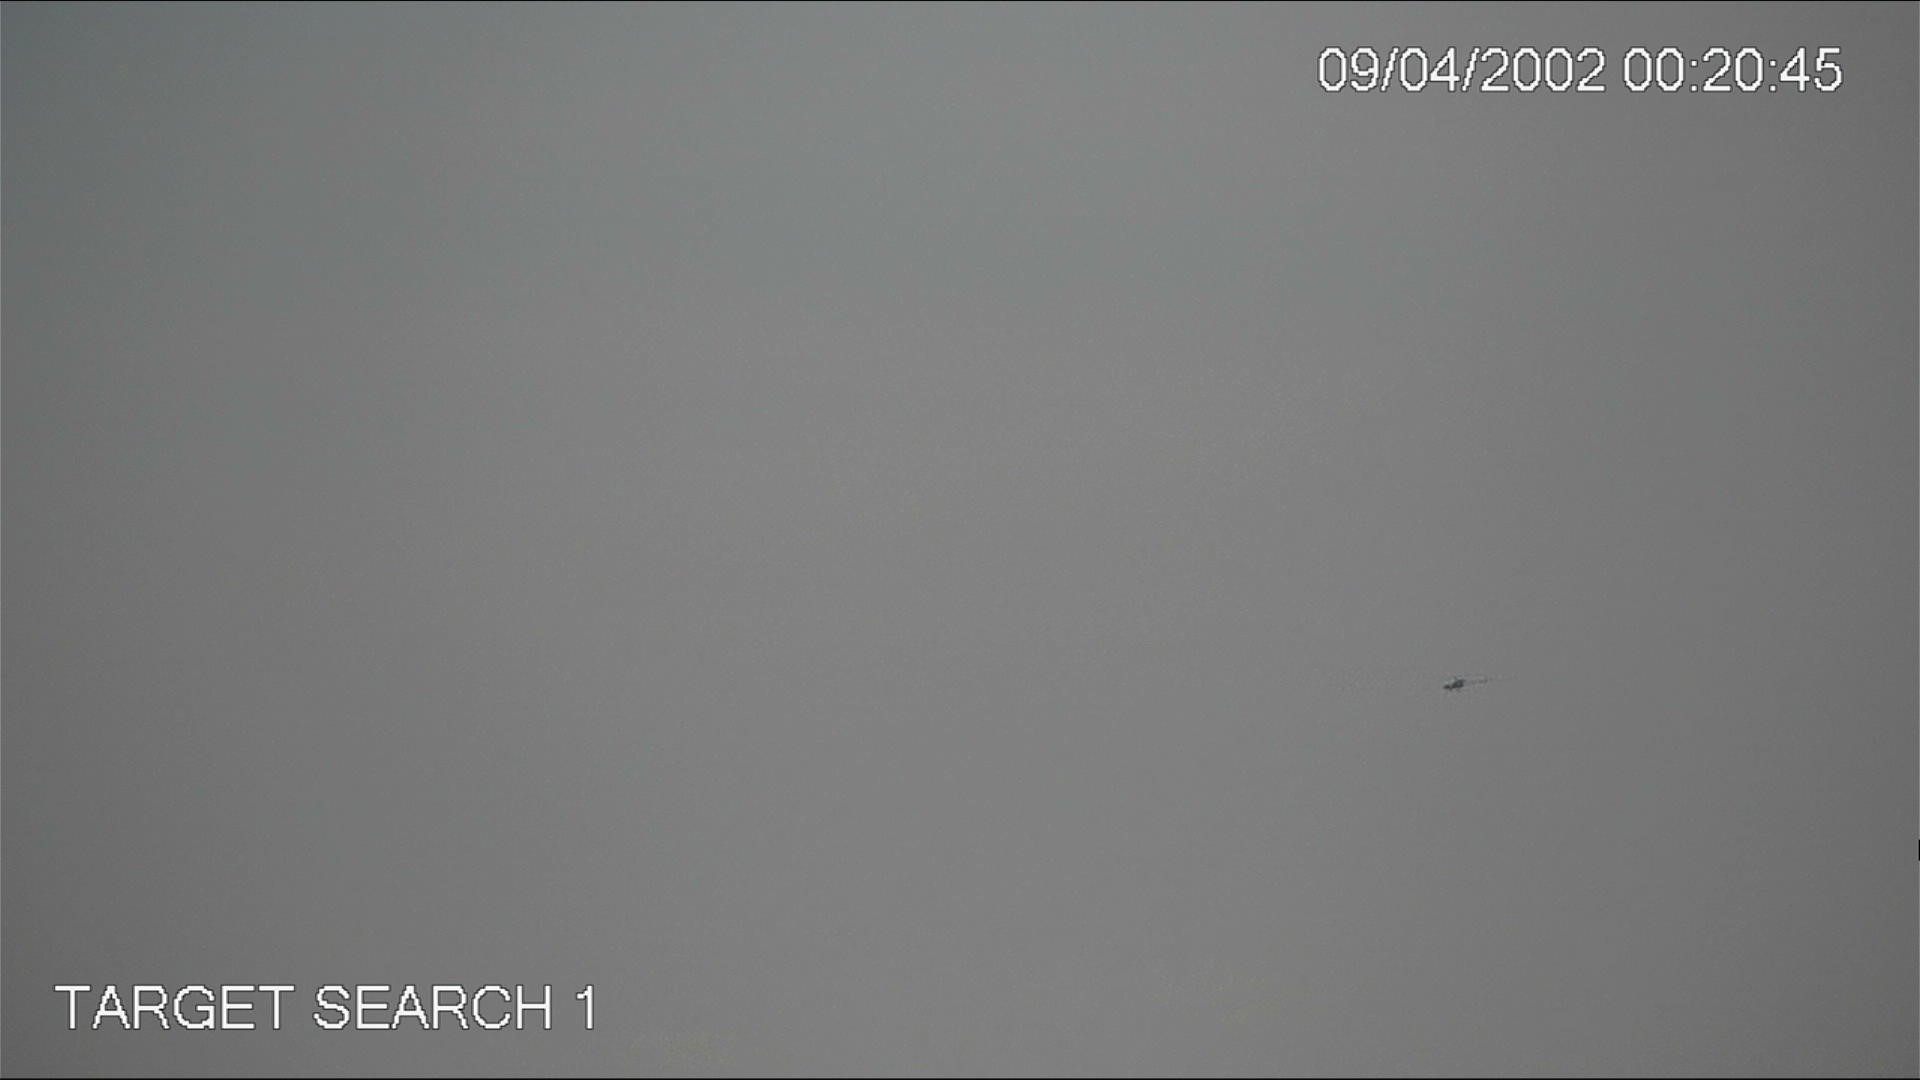SU_30: (1443, 675, 1468, 694)
